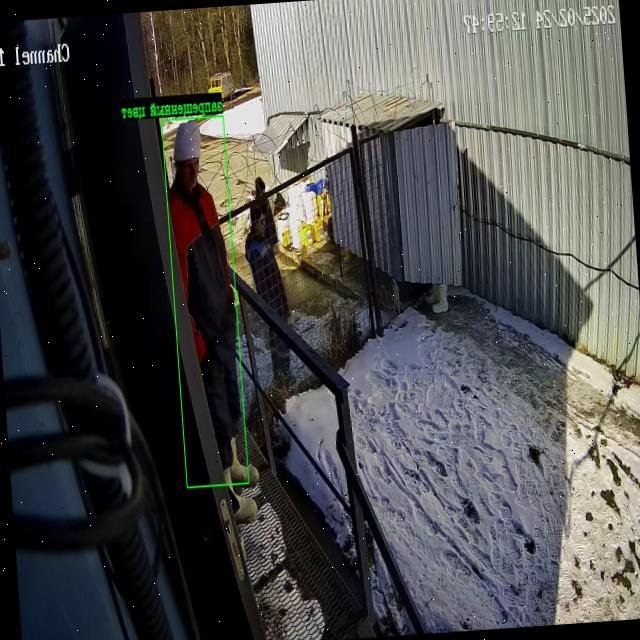Person: (245, 201, 289, 322), (263, 328, 290, 377), (260, 198, 278, 249), (255, 176, 265, 195)
Red uniform: (168, 119, 260, 485)
